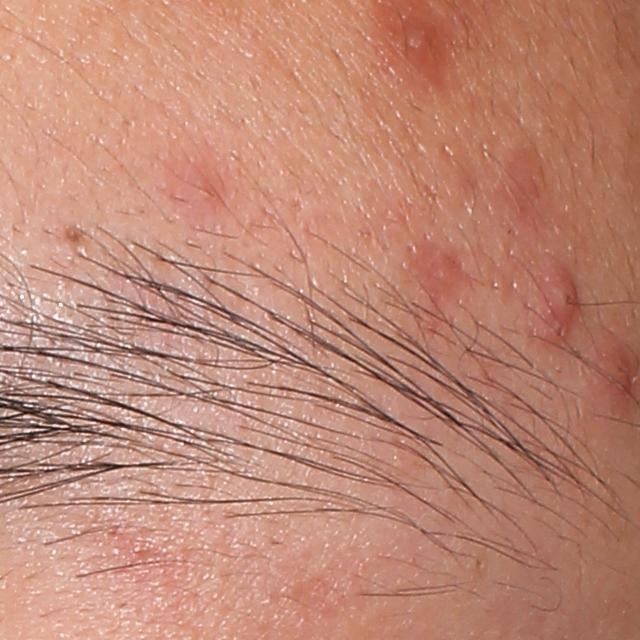nevus: (60, 223, 85, 249)
papule: (516, 253, 584, 355), (585, 330, 637, 420), (394, 11, 437, 68)
